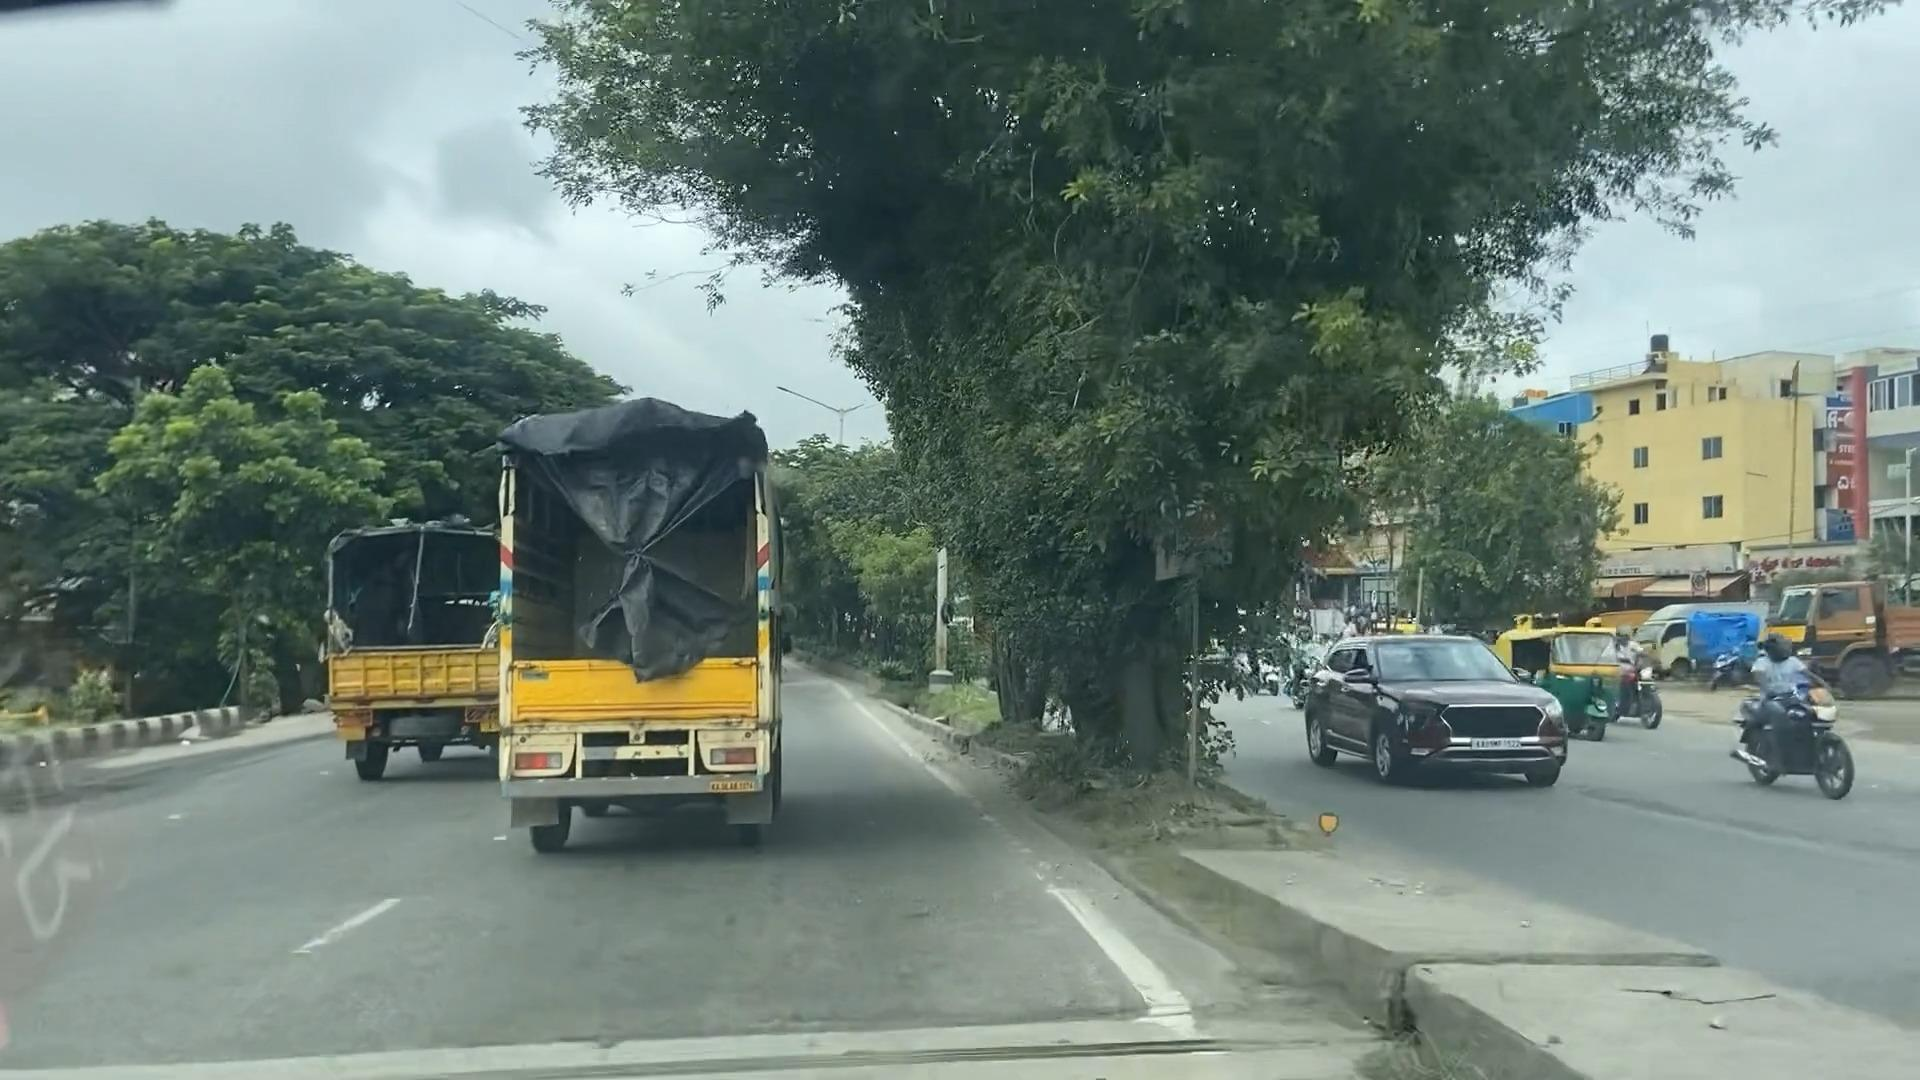HMV: (440, 335, 820, 885), (322, 492, 564, 812)
